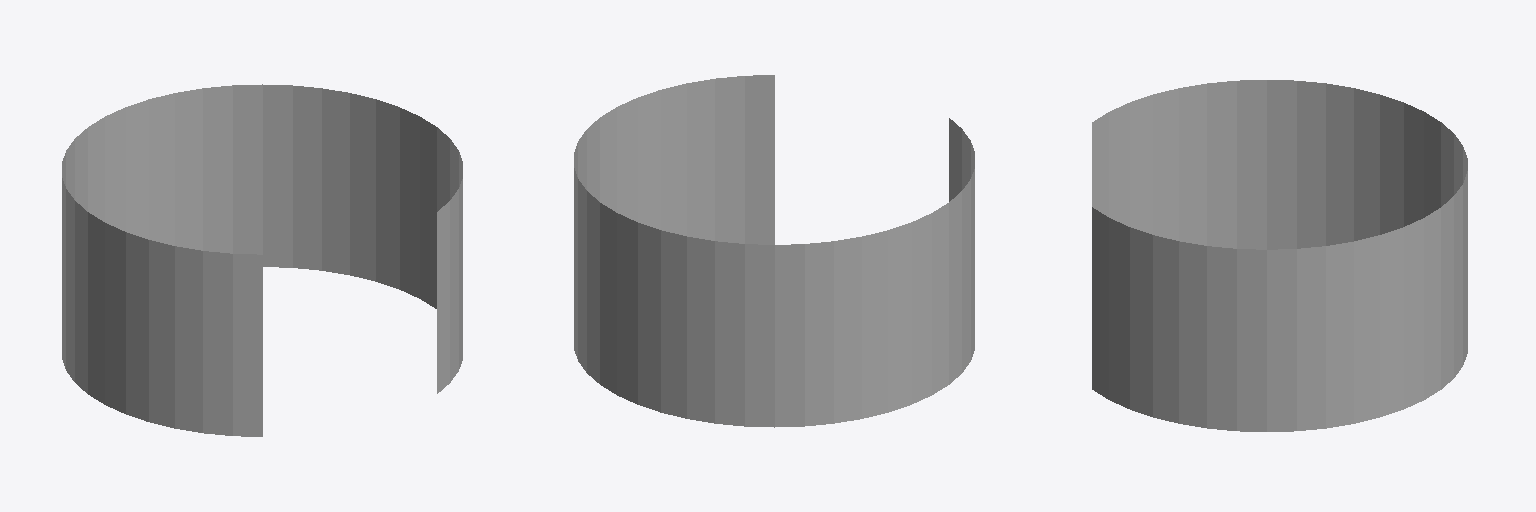
Rendered from room.obj.
The picture shows the model from 3 angles: view 1: azimuth 30°, elevation 25°; view 2: azimuth 150°, elevation 25°; view 3: azimuth 270°, elevation 25°; orthographic projection.
Visible parts, largest first — view 1: Body1; view 2: Body1; view 3: Body1.
Part boxes in pixels (x1,y1,x2,y2): Body1: (62, 84, 462, 436); Body1: (574, 75, 974, 427); Body1: (1092, 80, 1467, 431).
Bounding box in the file's own units: 157 × 78.74 × 147.